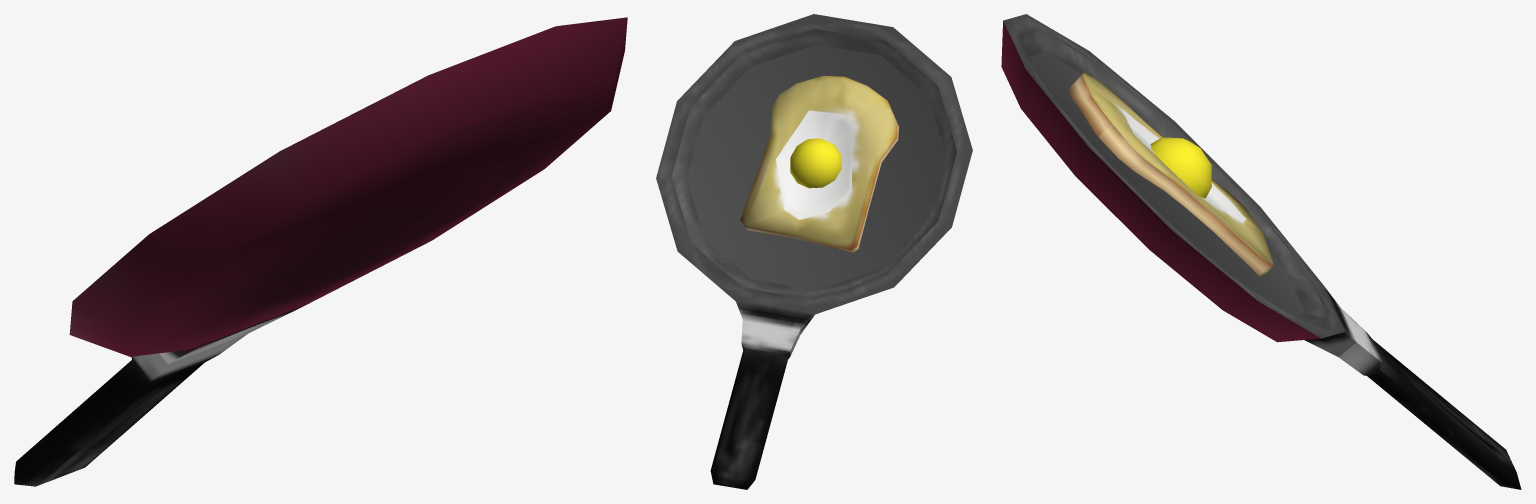
The model's file is C_FryingPanBreadEgg.fbx.
3 views of the same model, side by side, from view 1: azimuth 30°, elevation 25°; view 2: azimuth 150°, elevation 25°; view 3: azimuth 270°, elevation 25° (orthographic). The views are drawn at different scales.
Parts seen in each view (by area): view 1: fryingpan_full.001; view 2: fryingpan_full.001; view 3: fryingpan_full.001.
Boxes of the visible parts, x1,y1,x2,y2 form: fryingpan_full.001: [14, 17, 627, 486]; fryingpan_full.001: [656, 14, 972, 489]; fryingpan_full.001: [1001, 14, 1521, 489].
Bounding box in the file's own units: 43.09 × 48.93 × 48.84.
